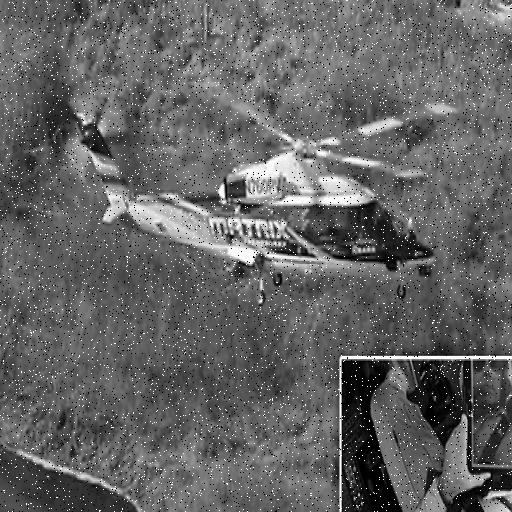helicopter: (70, 86, 462, 296)
